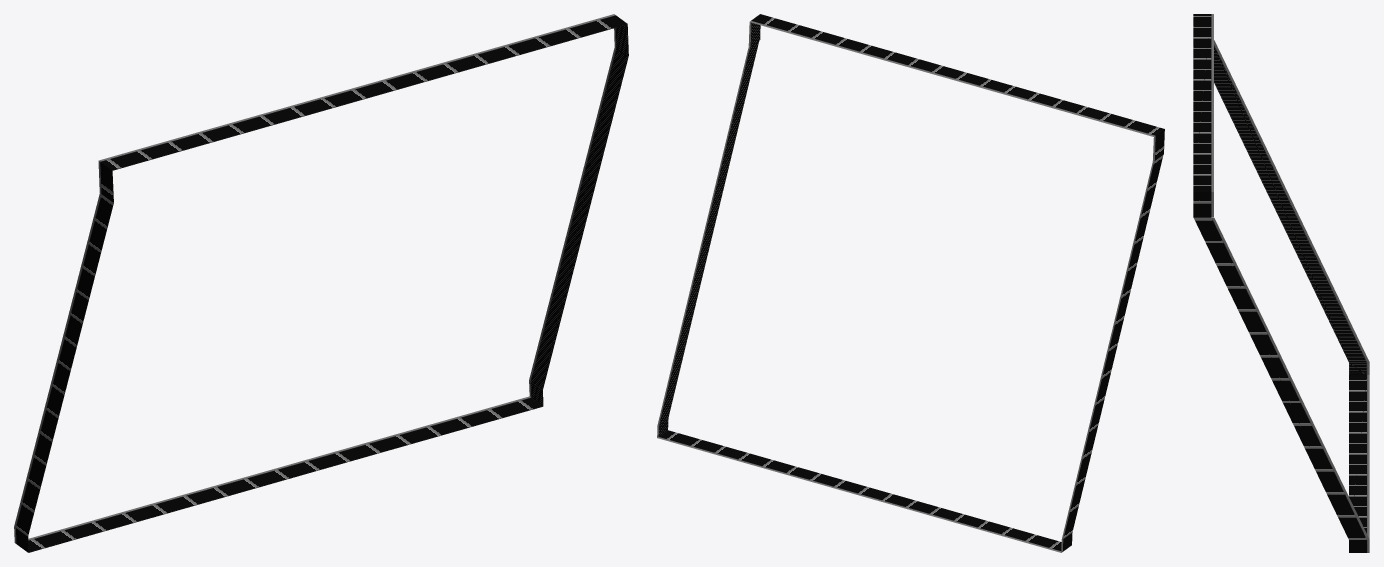
The model's file is _0TRIBUENE_02_028_SUB0_Scene.198.obj.
3 views of the same model, side by side, from view 1: azimuth 30°, elevation 25°; view 2: azimuth 150°, elevation 25°; view 3: azimuth 270°, elevation 25° (orthographic). The views are drawn at different scales.
Visible parts, largest first — view 1: _0TRIBUENE_02_028_SUB0_Scene.198; view 2: _0TRIBUENE_02_028_SUB0_Scene.198; view 3: _0TRIBUENE_02_028_SUB0_Scene.198.
Boxes of the visible parts, x1=… form: _0TRIBUENE_02_028_SUB0_Scene.198: x1=14, y1=14, x2=628, y2=552; _0TRIBUENE_02_028_SUB0_Scene.198: x1=657, y1=14, x2=1164, y2=552; _0TRIBUENE_02_028_SUB0_Scene.198: x1=1193, y1=14, x2=1369, y2=552.
Bounding box in the file's own units: 34.13 × 29.49 × 12.72.
